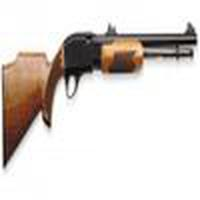gun: (1, 30, 200, 151)
